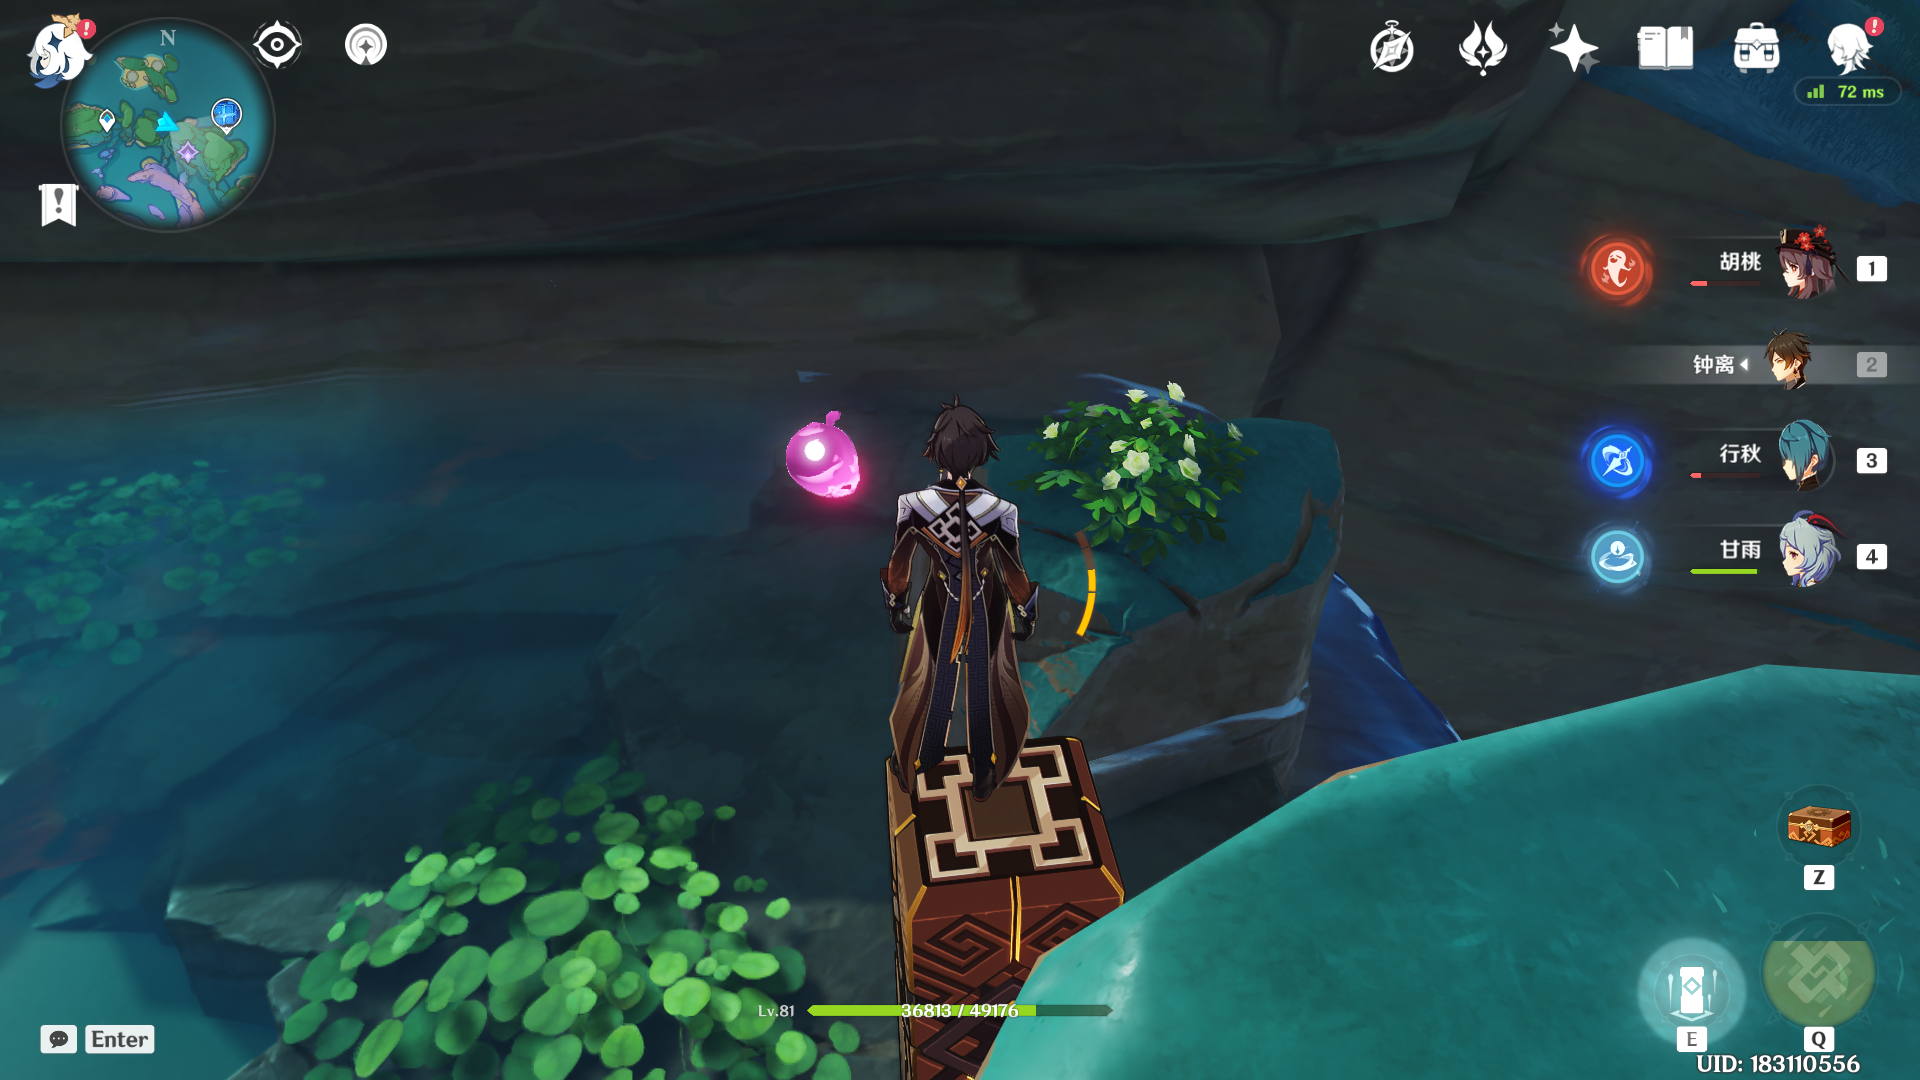character: (804, 388, 1109, 814)
